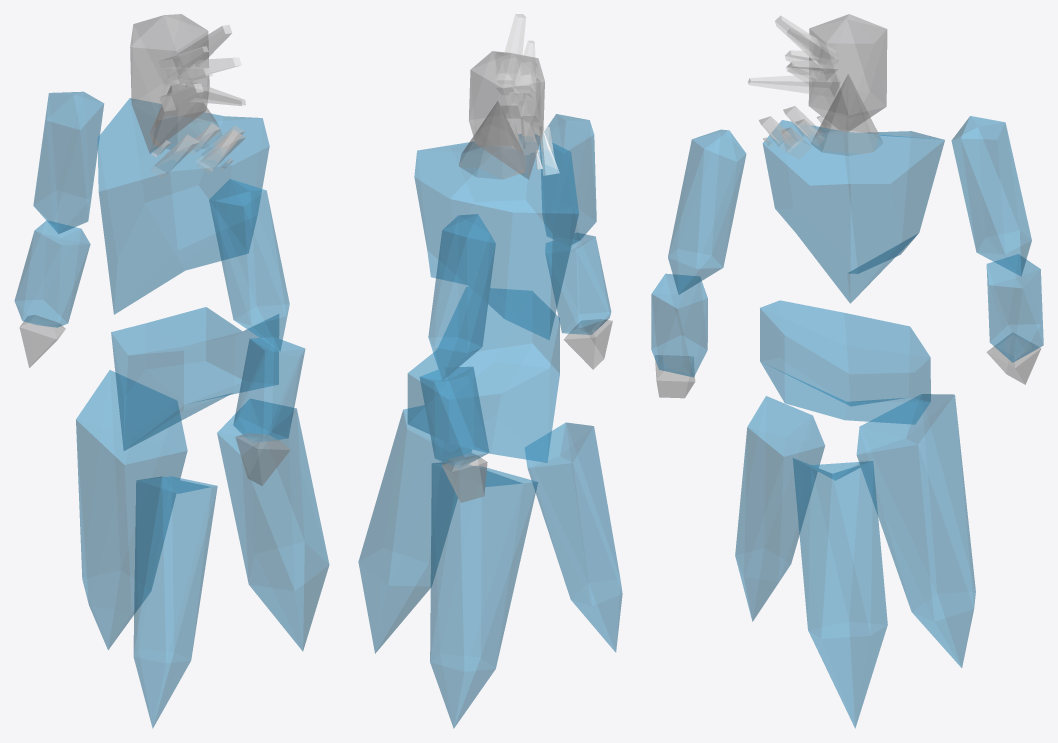
The model's file is ghostIdle11.obj.
3 renders of one model, left to right at view 1: azimuth 30°, elevation 25°; view 2: azimuth 150°, elevation 25°; view 3: azimuth 270°, elevation 25°, orthographic. The views are drawn at different scales.
Parts seen in each view (by area): view 1: Cube.001_Cube.001, Icosphere.005, Icosphere.004, Cube_Cube.002, Icosphere.003, Icosphere.005_Icosphere.001, Icosphere.003_Icosphere.001, Icosphere.007_Icosphere.001, Icosphere.008_Icosphere.001, Icosphere.006_Icosphere.001, Cone_Cone.002, Cube.002_Cube.001 (+8 smaller); view 2: Cube.001_Cube.001, Cube_Cube.002, Icosphere.005, Icosphere.004, Icosphere.003, Icosphere.007_Icosphere.001, Icosphere.003_Icosphere.001, Icosphere.005_Icosphere.001, Icosphere.008_Icosphere.001, Icosphere.006_Icosphere.001, Cone_Cone.002, Cube.003_Cube.001 (+5 smaller); view 3: Cube.001_Cube.001, Icosphere.005, Icosphere.004, Cube_Cube.002, Icosphere.003, Icosphere.005_Icosphere.001, Icosphere.007_Icosphere.001, Icosphere.003_Icosphere.001, Icosphere.006_Icosphere.001, Icosphere.008_Icosphere.001, Cone_Cone.002, Cube.003_Cube.001 (+4 smaller).
Boxes of the visible parts, x1=… form: Cube.001_Cube.001: x1=97, y1=98, x2=269, y2=314; Icosphere.005: x1=76, y1=370, x2=187, y2=649; Icosphere.004: x1=217, y1=399, x2=329, y2=651; Cube_Cube.002: x1=111, y1=307, x2=278, y2=450; Icosphere.003: x1=133, y1=476, x2=217, y2=728; Icosphere.005_Icosphere.001: x1=209, y1=179, x2=289, y2=351; Icosphere.003_Icosphere.001: x1=130, y1=14, x2=209, y2=153; Icosphere.007_Icosphere.001: x1=33, y1=91, x2=103, y2=233; Icosphere.008_Icosphere.001: x1=14, y1=220, x2=90, y2=327; Icosphere.006_Icosphere.001: x1=233, y1=337, x2=305, y2=442; Cone_Cone.002: x1=150, y1=86, x2=222, y2=149; Cube.002_Cube.001: x1=235, y1=433, x2=290, y2=485; Cube.001_Cube.001: x1=414, y1=134, x2=578, y2=339; Cube_Cube.002: x1=407, y1=287, x2=559, y2=462; Icosphere.005: x1=430, y1=462, x2=537, y2=728; Icosphere.004: x1=358, y1=405, x2=471, y2=653; Icosphere.003: x1=525, y1=422, x2=622, y2=652; Icosphere.007_Icosphere.001: x1=428, y1=214, x2=495, y2=380; Icosphere.003_Icosphere.001: x1=469, y1=51, x2=544, y2=179; Icosphere.005_Icosphere.001: x1=540, y1=114, x2=596, y2=246; Icosphere.008_Icosphere.001: x1=419, y1=366, x2=489, y2=468; Icosphere.006_Icosphere.001: x1=545, y1=233, x2=611, y2=334; Cone_Cone.002: x1=459, y1=101, x2=524, y2=179; Cube.003_Cube.001: x1=442, y1=453, x2=487, y2=502; Cube.001_Cube.001: x1=762, y1=120, x2=944, y2=303; Icosphere.005: x1=856, y1=394, x2=975, y2=667; Icosphere.004: x1=792, y1=458, x2=887, y2=728; Cube_Cube.002: x1=760, y1=300, x2=930, y2=424; Icosphere.003: x1=735, y1=396, x2=824, y2=621; Icosphere.005_Icosphere.001: x1=668, y1=129, x2=746, y2=294; Icosphere.007_Icosphere.001: x1=951, y1=116, x2=1031, y2=276; Icosphere.003_Icosphere.001: x1=808, y1=14, x2=887, y2=131; Icosphere.006_Icosphere.001: x1=651, y1=273, x2=707, y2=377; Icosphere.008_Icosphere.001: x1=986, y1=254, x2=1043, y2=362; Cone_Cone.002: x1=811, y1=74, x2=882, y2=155; Cube.003_Cube.001: x1=986, y1=333, x2=1041, y2=384.
Bounding box in the file's own units: 16.78 × 48.74 × 26.17.
